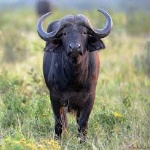Animal: (37, 9, 113, 139)
Uncultivated: (1, 8, 148, 147)
